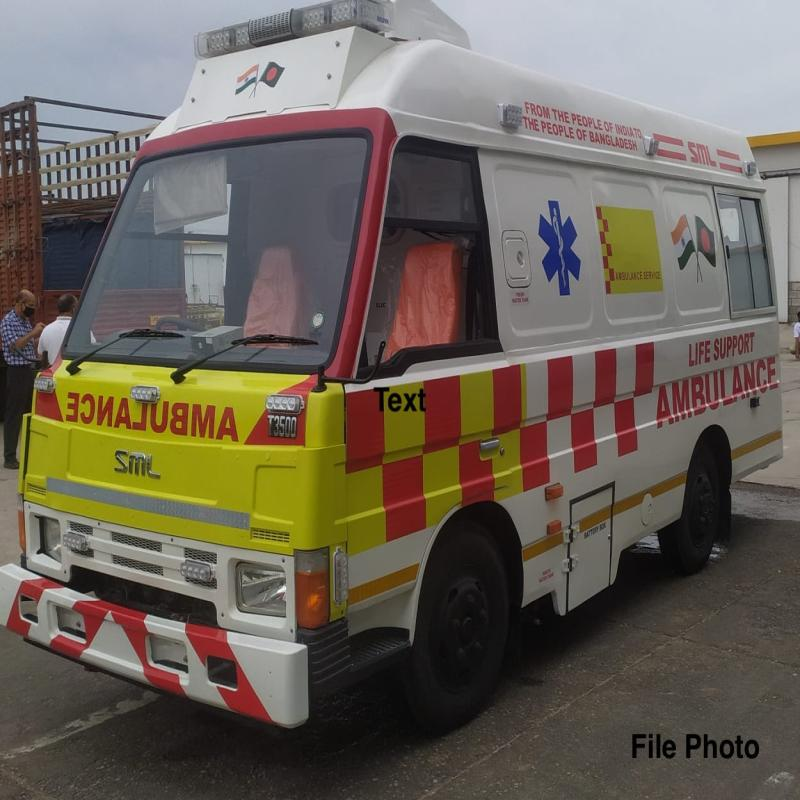AmbulanceSiren: (178, 3, 388, 50)
ambulance: (0, 0, 800, 759)
